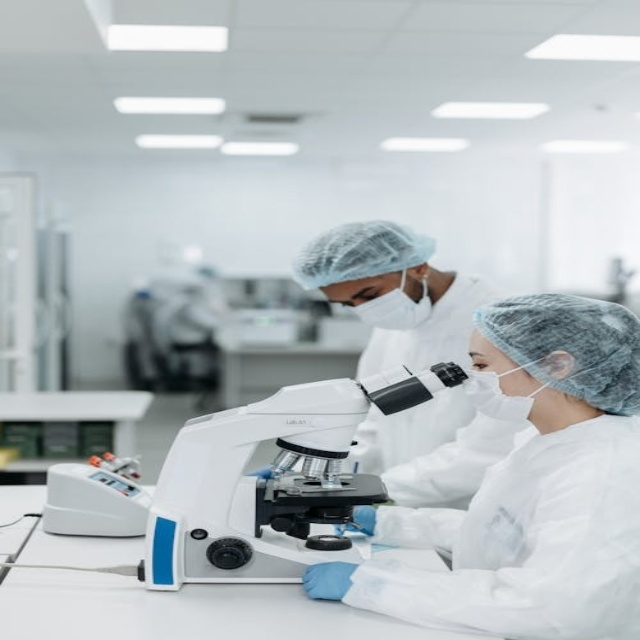Guantes: (303, 557, 360, 601)
Mascara: (461, 357, 545, 422), (344, 268, 428, 329)
Sin_gafas: (326, 278, 384, 307), (462, 343, 511, 373)
